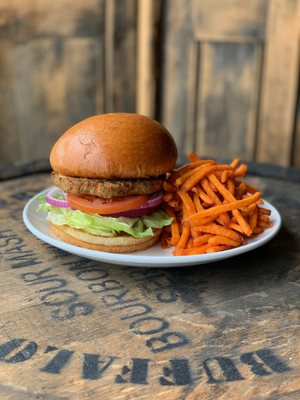soup: (41, 112, 181, 253)
